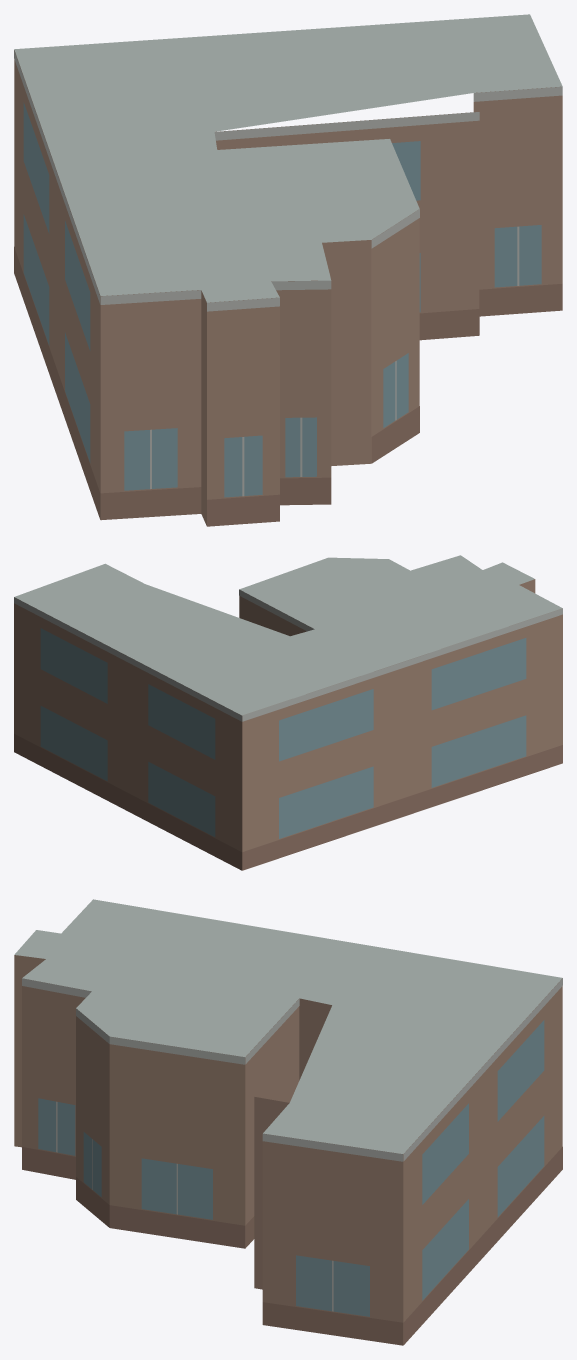
The model's file is survey-upis-32552580.glb.
The picture shows the model from 3 angles, top to bottom: view 1: azimuth 30°, elevation 25°; view 2: azimuth 150°, elevation 25°; view 3: azimuth 270°, elevation 25°; orthographic projection. The views are drawn at different scales.
Parts seen in each view (by area): view 1: survey-upis-32552580.tmp; view 2: survey-upis-32552580.tmp; view 3: survey-upis-32552580.tmp.
Part boxes in pixels (x1,y1,x2,y2): survey-upis-32552580.tmp: (14,14,562,526); survey-upis-32552580.tmp: (14,555,562,870); survey-upis-32552580.tmp: (14,899,562,1345).
Bounding box in the file's own units: 17.43 × 6.1 × 15.86.
